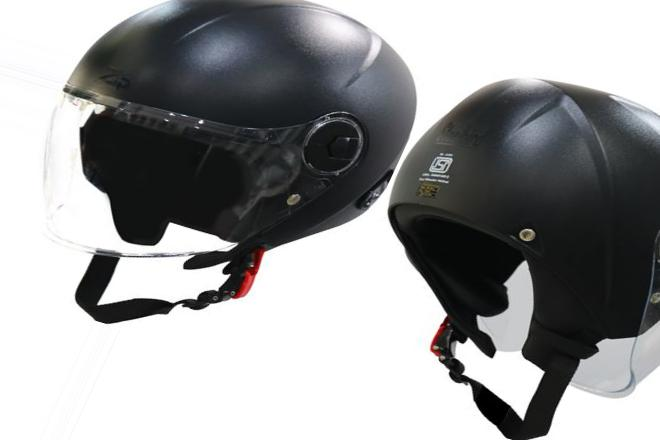helmet: (21, 1, 415, 352)
